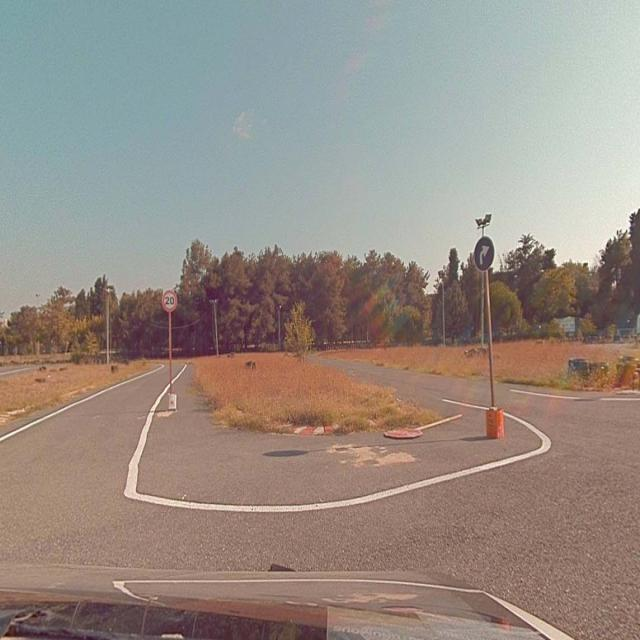20: (162, 289, 176, 311)
sag: (475, 238, 494, 270)
